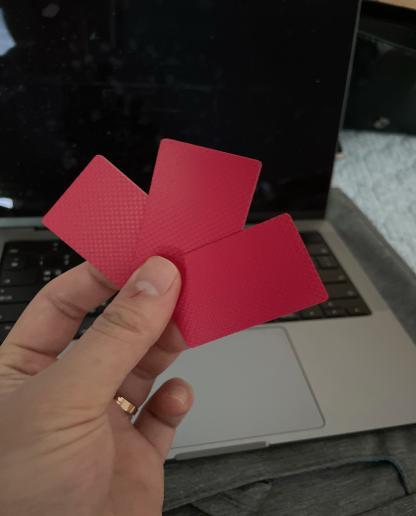ThreeHwatoo: (35, 113, 330, 345)
